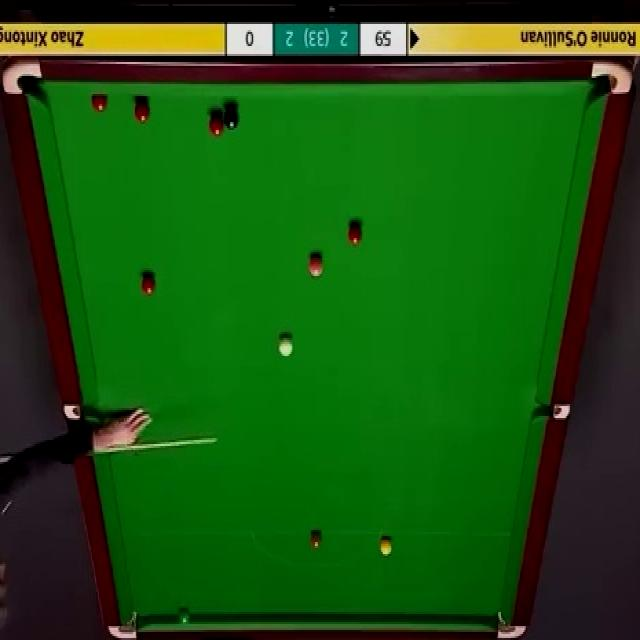pocket: (3, 58, 44, 98), (591, 60, 634, 97), (108, 608, 140, 640), (495, 611, 528, 638), (63, 403, 100, 422), (537, 404, 571, 422)
